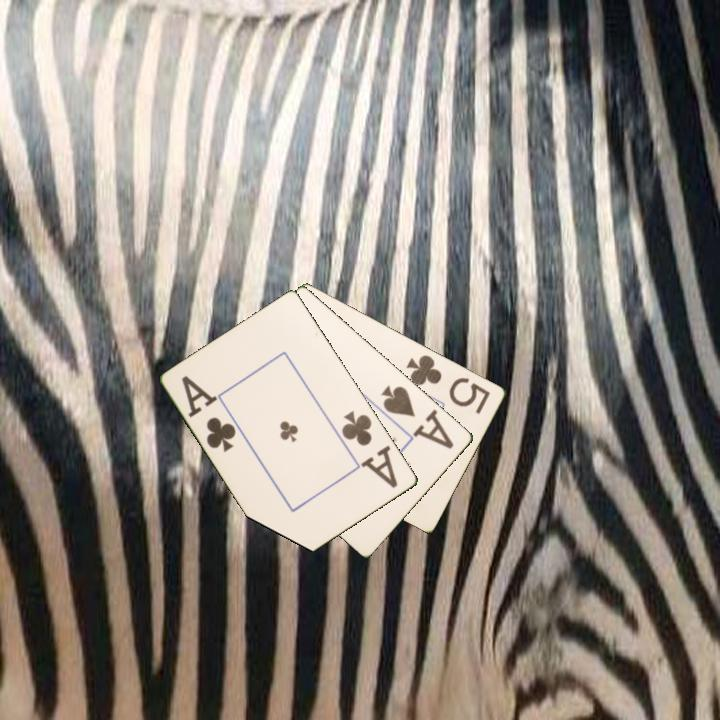5c: (402, 351, 493, 417)
Ac: (338, 407, 401, 491), (178, 372, 239, 455)
As: (378, 381, 450, 445)
